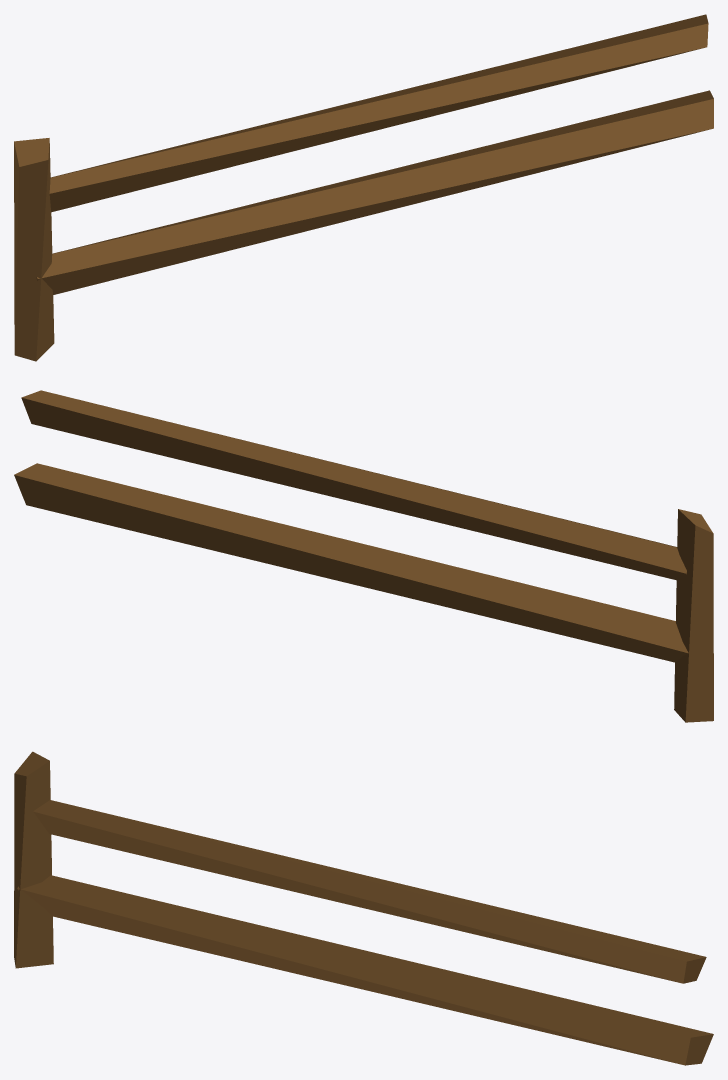
File: Wooden_Fences2.fbx
3 views of the same model, one above another, from view 1: azimuth 30°, elevation 25°; view 2: azimuth 150°, elevation 25°; view 3: azimuth 330°, elevation 25° (orthographic). The views are drawn at different scales.
Parts seen in each view (by area): view 1: Wooden_Fences2; view 2: Wooden_Fences2; view 3: Wooden_Fences2.
Boxes of the visible parts, <box> form: Wooden_Fences2: <box>14,14,713,361</box>; Wooden_Fences2: <box>14,390,713,722</box>; Wooden_Fences2: <box>14,751,713,1065</box>.
Size of the model in its own units: 453 by 129 by 22.6.
